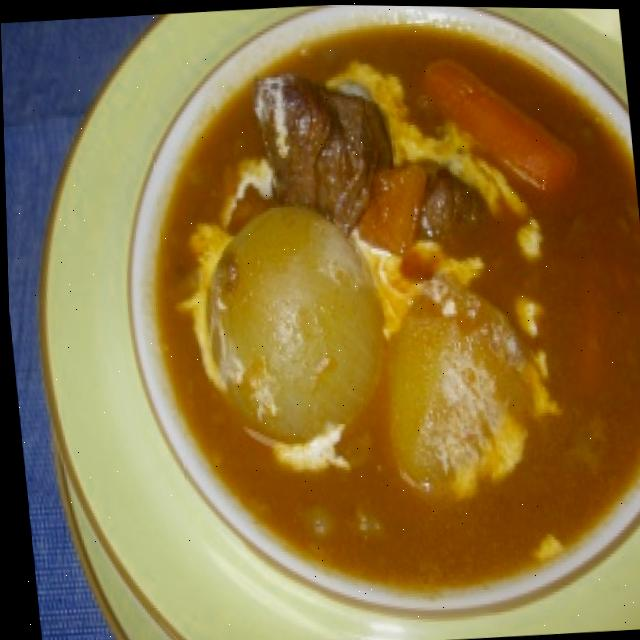汤锅炖物: (4, 0, 640, 640)
